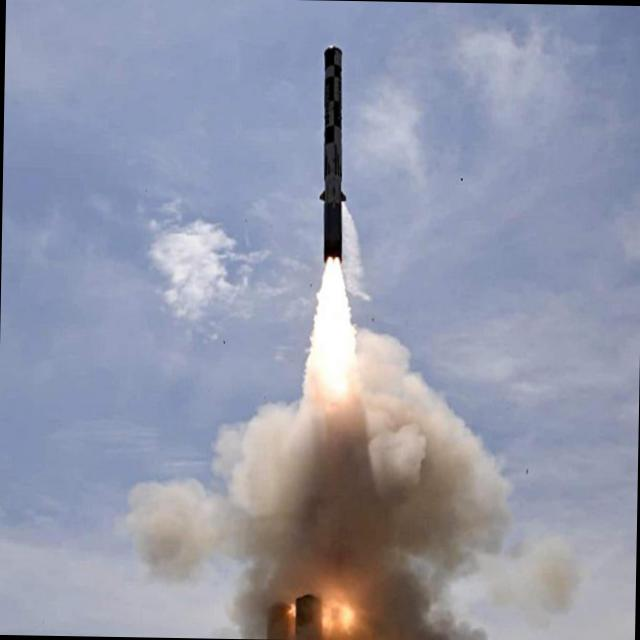rocket: (305, 43, 367, 373)
